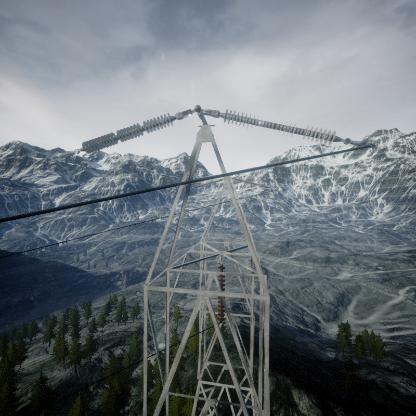insulator: (70, 105, 194, 154), (219, 106, 352, 145), (216, 265, 228, 322)
